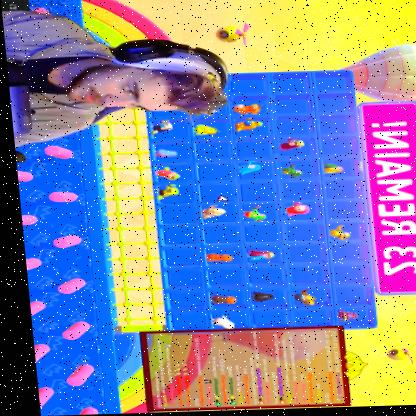streamer: (1, 6, 233, 148)
